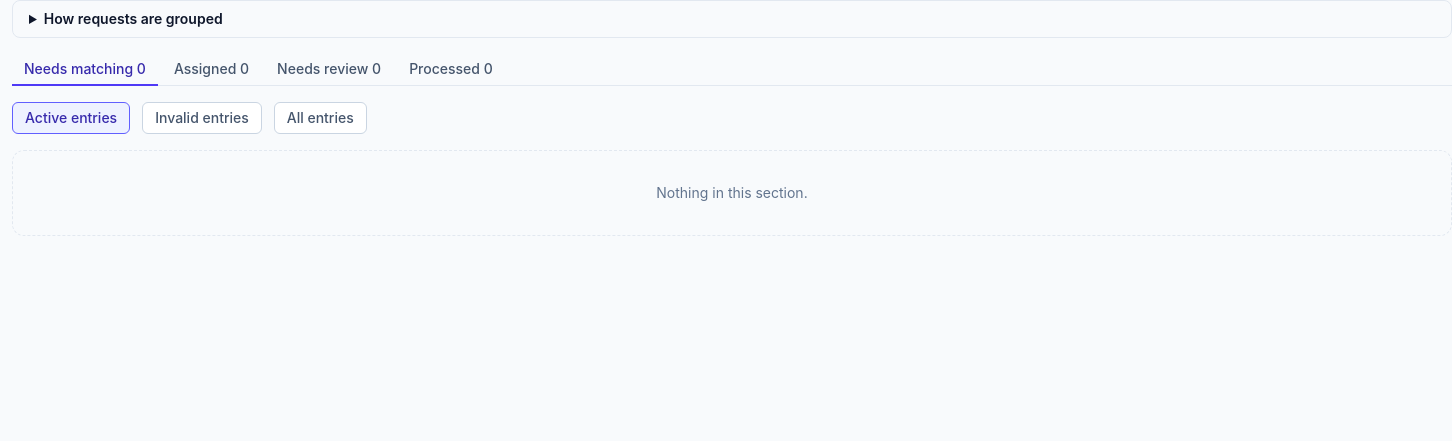
Test: preserves independent invalid and closed request badges (verified=true)
The width and height of the screenshot is (1452, 441).
Click the button "Invalid entries" at (202, 118), box [142,102,262,134]
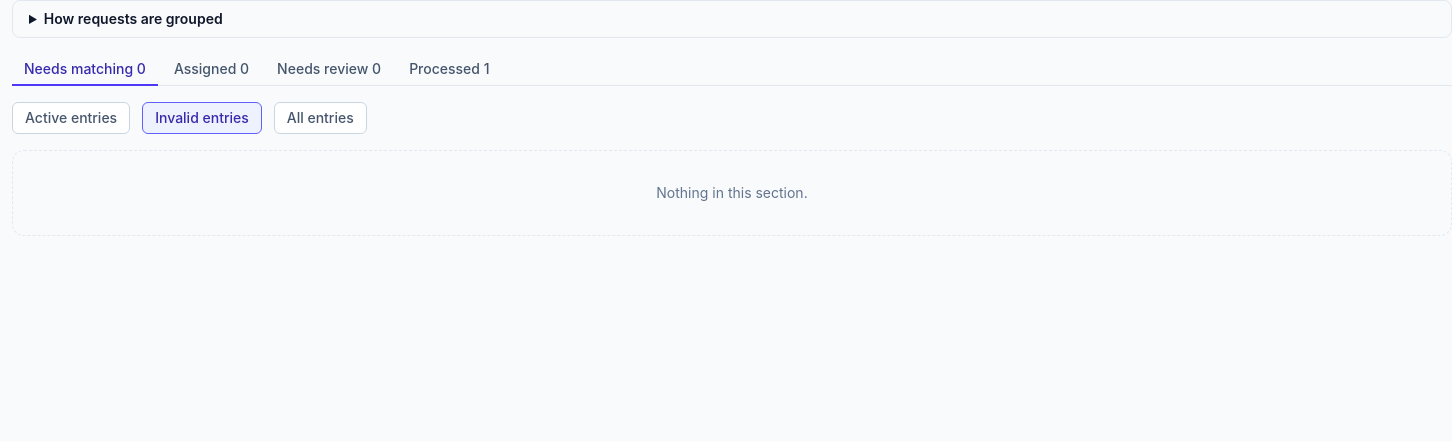
Click the tab "Processed 1" at (449, 70), box [397,54,502,86]
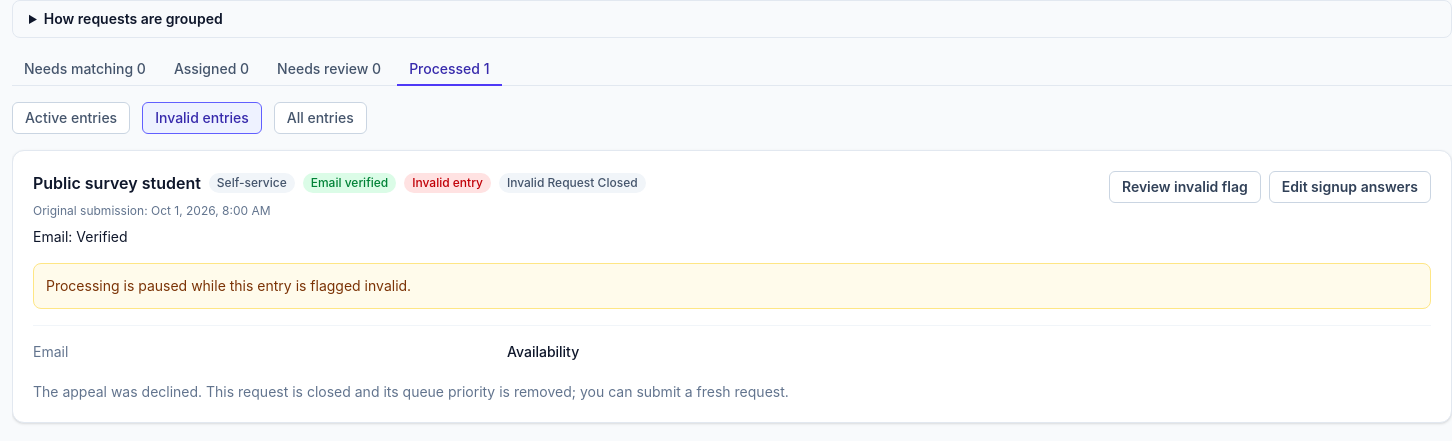
Expected: the text "Email verified" is shown, [303,173,396,193]
Expected: the text "Invalid entry" is shown, [404,173,491,193]
Expected: the text "Invalid Request Closed" is shown, [499,173,646,193]
